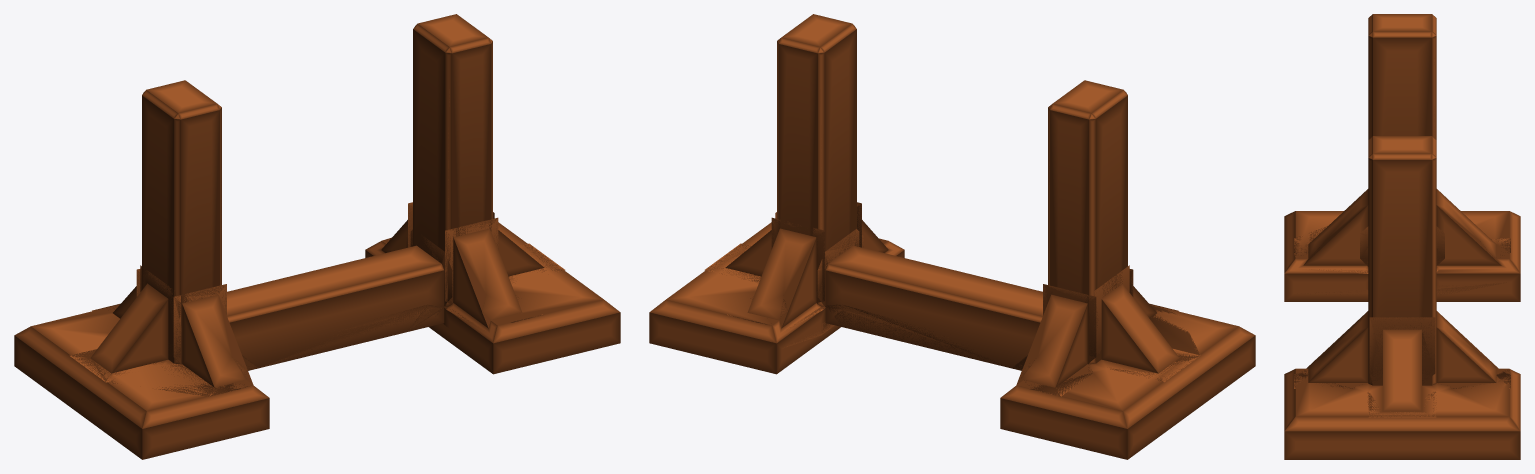
File: TrainingStand.fbx
3 views of the same model, side by side, from view 1: azimuth 30°, elevation 25°; view 2: azimuth 150°, elevation 25°; view 3: azimuth 270°, elevation 25° (orthographic). The views are drawn at different scales.
Visible parts, largest first — view 1: TrainingStand; view 2: TrainingStand; view 3: TrainingStand.
Boxes of the visible parts, left/top/right/bottom form: TrainingStand: left=14, top=14, right=620, bottom=459; TrainingStand: left=649, top=14, right=1255, bottom=459; TrainingStand: left=1284, top=14, right=1520, bottom=459.
Bounding box in the file's own units: 5.5 × 3.2 × 2.55.
